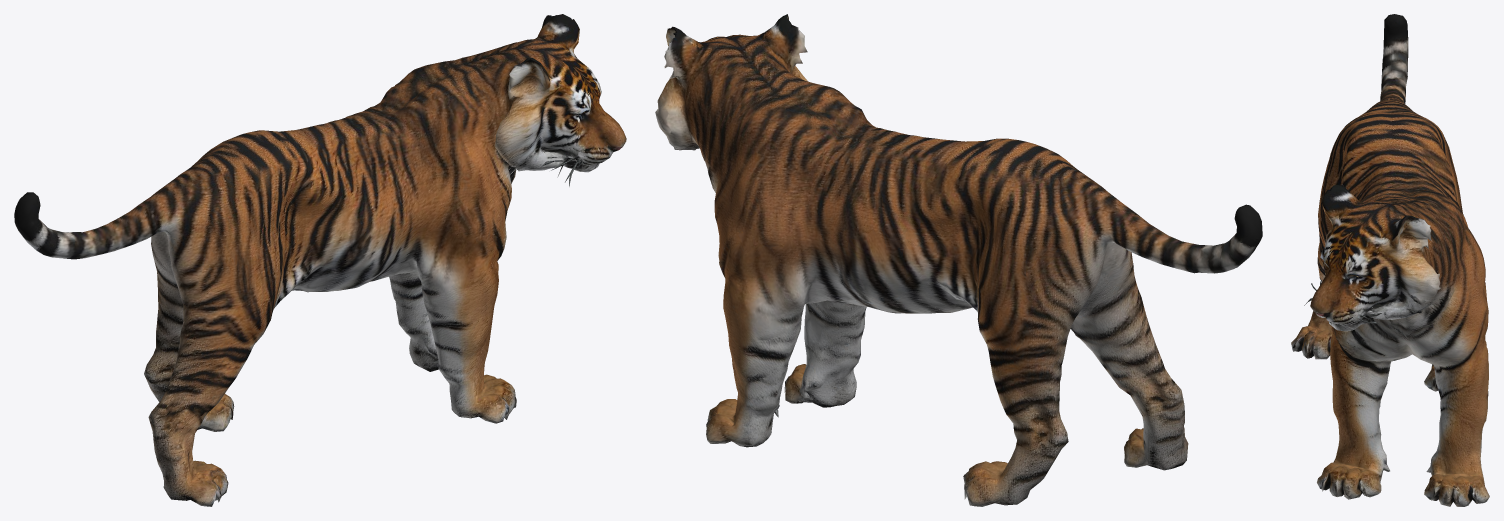
Rendered from SAFFWHISK.glb.
3 renders of one model, left to right at view 1: azimuth 30°, elevation 25°; view 2: azimuth 150°, elevation 25°; view 3: azimuth 270°, elevation 25°, orthographic. The views are drawn at different scales.
Visible parts, largest first — view 1: tripo_node_50e70b8f-cf35-4913-a274-e302f67f0ead; view 2: tripo_node_50e70b8f-cf35-4913-a274-e302f67f0ead; view 3: tripo_node_50e70b8f-cf35-4913-a274-e302f67f0ead.
Boxes of the visible parts, x1,y1,x2,y2 form: tripo_node_50e70b8f-cf35-4913-a274-e302f67f0ead: [14, 14, 626, 506]; tripo_node_50e70b8f-cf35-4913-a274-e302f67f0ead: [655, 14, 1262, 506]; tripo_node_50e70b8f-cf35-4913-a274-e302f67f0ead: [1291, 14, 1489, 506].
Size of the model in its own units: 1.72 by 1 by 0.5589.
1 material, 1 textured.
